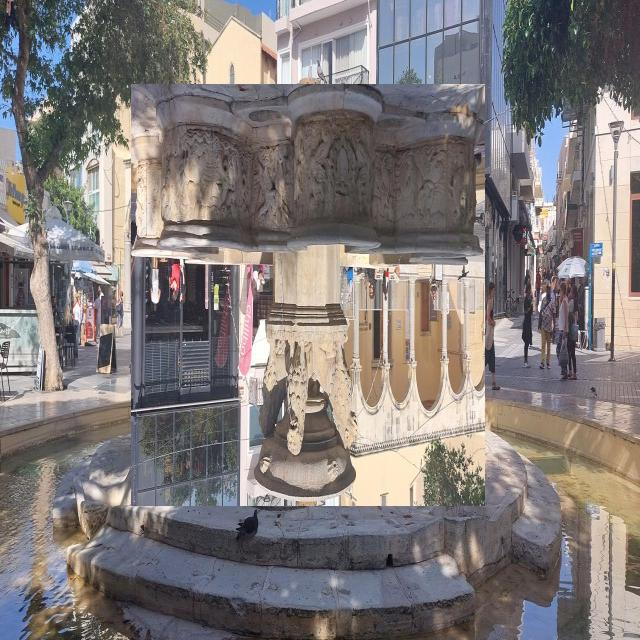Liontaria: (132, 85, 486, 507)
